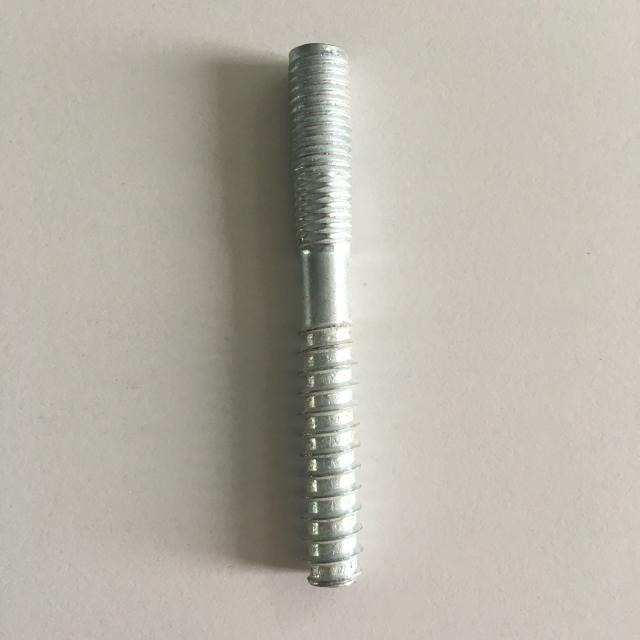Dry Waste: (213, 0, 458, 640)
